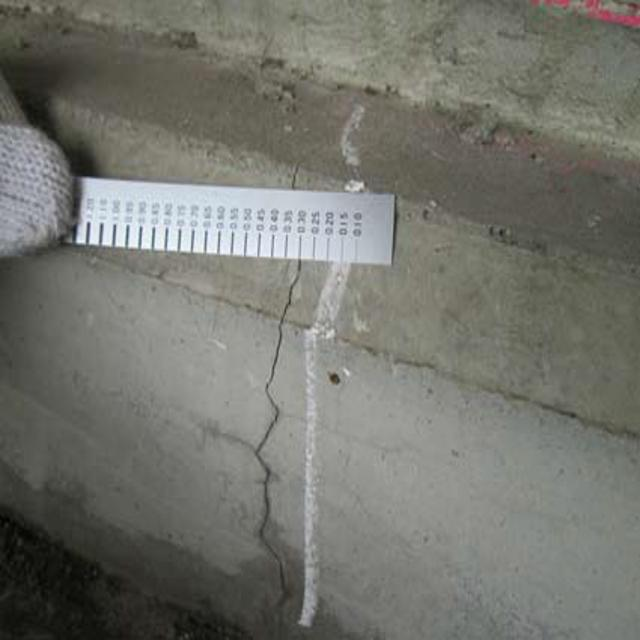crack: (227, 270, 340, 640), (264, 20, 317, 191)
